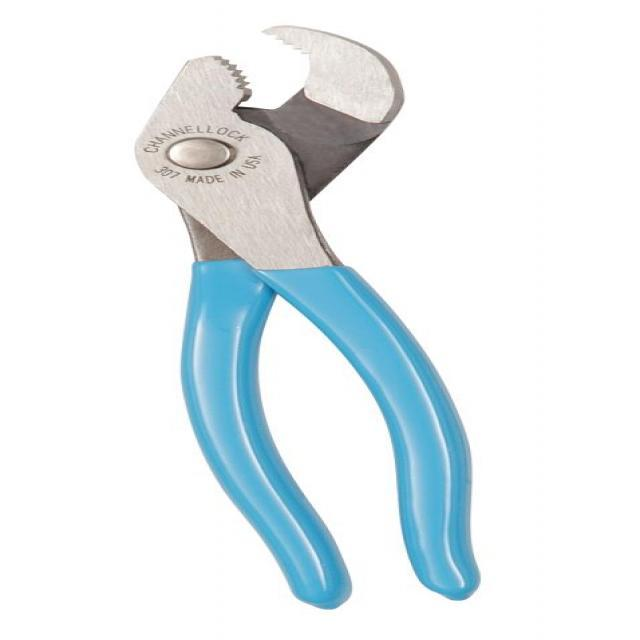pliers: (114, 19, 498, 615)
